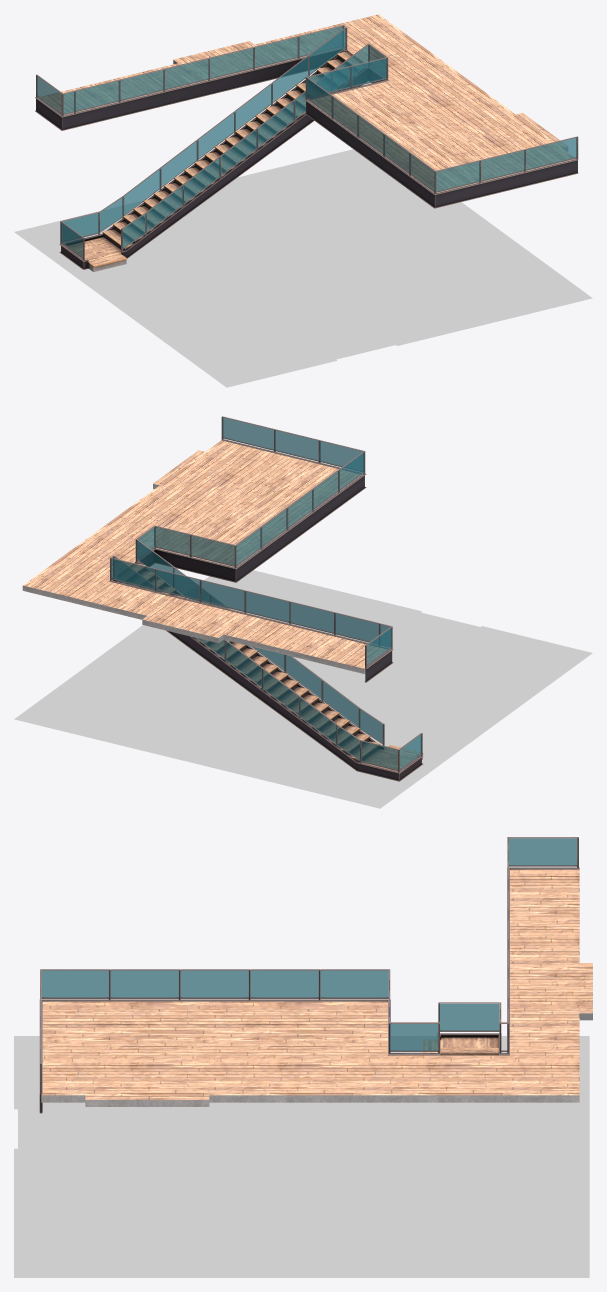
The model's file is TeachingCommunityWelcomeZoneInterior.glb.
The picture shows the model from 3 angles, top to bottom: view 1: azimuth 30°, elevation 25°; view 2: azimuth 150°, elevation 25°; view 3: azimuth 270°, elevation 25°; orthographic projection. The views are drawn at different scales.
Parts seen in each view (by area): view 1: TCV_WelcomeZoneFloor, TCV_WelcomeZoneFirstFloor, TCV_WelcomeZoneStairGlass, TCV_WelcomeZoneStairSupports, TCV_WelcomeZoneStairs, TCV_WelcomeZoneStairRailing; view 2: TCV_WelcomeZoneFloor, TCV_WelcomeZoneFirstFloor, TCV_WelcomeZoneStairGlass, TCV_WelcomeZoneStairSupports, TCV_WelcomeZoneStairRailing, TCV_WelcomeZoneStairs; view 3: TCV_WelcomeZoneFloor, TCV_WelcomeZoneFirstFloor, TCV_WelcomeZoneStairGlass, TCV_WelcomeZoneStairRailing, TCV_WelcomeZoneStairSupports, TCV_WelcomeZoneStairs.
Part boxes in pixels (bbox=[...]): TCV_WelcomeZoneFloor: bbox=[14, 149, 592, 387]; TCV_WelcomeZoneFirstFloor: bbox=[40, 14, 575, 192]; TCV_WelcomeZoneStairGlass: bbox=[36, 26, 576, 257]; TCV_WelcomeZoneStairSupports: bbox=[35, 48, 578, 269]; TCV_WelcomeZoneStairs: bbox=[68, 51, 367, 271]; TCV_WelcomeZoneStairRailing: bbox=[36, 25, 578, 260]; TCV_WelcomeZoneFloor: bbox=[14, 570, 592, 808]; TCV_WelcomeZoneFirstFloor: bbox=[22, 440, 386, 673]; TCV_WelcomeZoneStairGlass: bbox=[111, 417, 421, 769]; TCV_WelcomeZoneStairSupports: bbox=[109, 439, 423, 781]; TCV_WelcomeZoneStairRailing: bbox=[110, 416, 422, 772]; TCV_WelcomeZoneStairs: bbox=[121, 563, 423, 771]; TCV_WelcomeZoneFloor: bbox=[14, 1036, 589, 1277]; TCV_WelcomeZoneFirstFloor: bbox=[41, 869, 592, 1106]; TCV_WelcomeZoneStairGlass: bbox=[42, 838, 576, 1050]; TCV_WelcomeZoneStairRailing: bbox=[40, 837, 578, 1094]; TCV_WelcomeZoneStairSupports: bbox=[39, 867, 579, 1113]; TCV_WelcomeZoneStairs: bbox=[423, 1037, 498, 1055].
Size of what is drawn, in the model's own units: 19.82 by 8.02 by 19.96.
6 materials, 3 textured.
